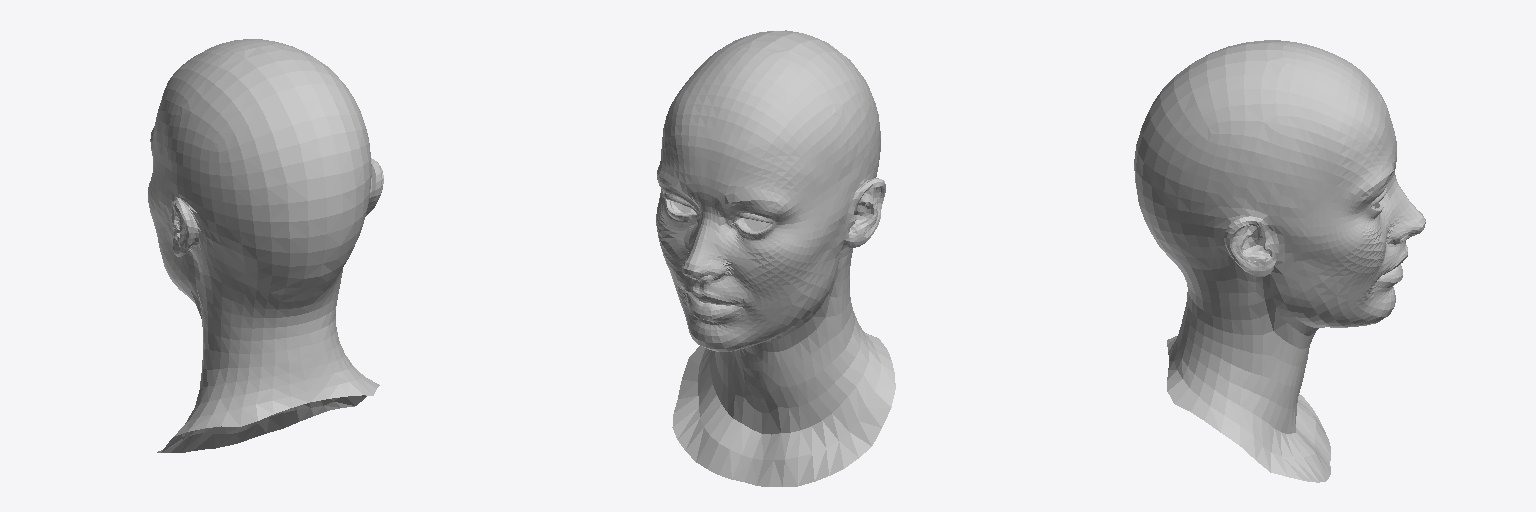
3 renders of one model, left to right at view 1: azimuth 30°, elevation 25°; view 2: azimuth 150°, elevation 25°; view 3: azimuth 270°, elevation 25°, orthographic.
Parts seen in each view (by area): view 1: Louise_asym; view 2: Louise_asym; view 3: Louise_asym.
Part boxes in pixels (bbox=[...]): Louise_asym: bbox=[148, 39, 383, 452]; Louise_asym: bbox=[656, 30, 895, 486]; Louise_asym: bbox=[1134, 40, 1425, 482].
Bounding box in the file's own units: 17.33 × 33.28 × 21.19.